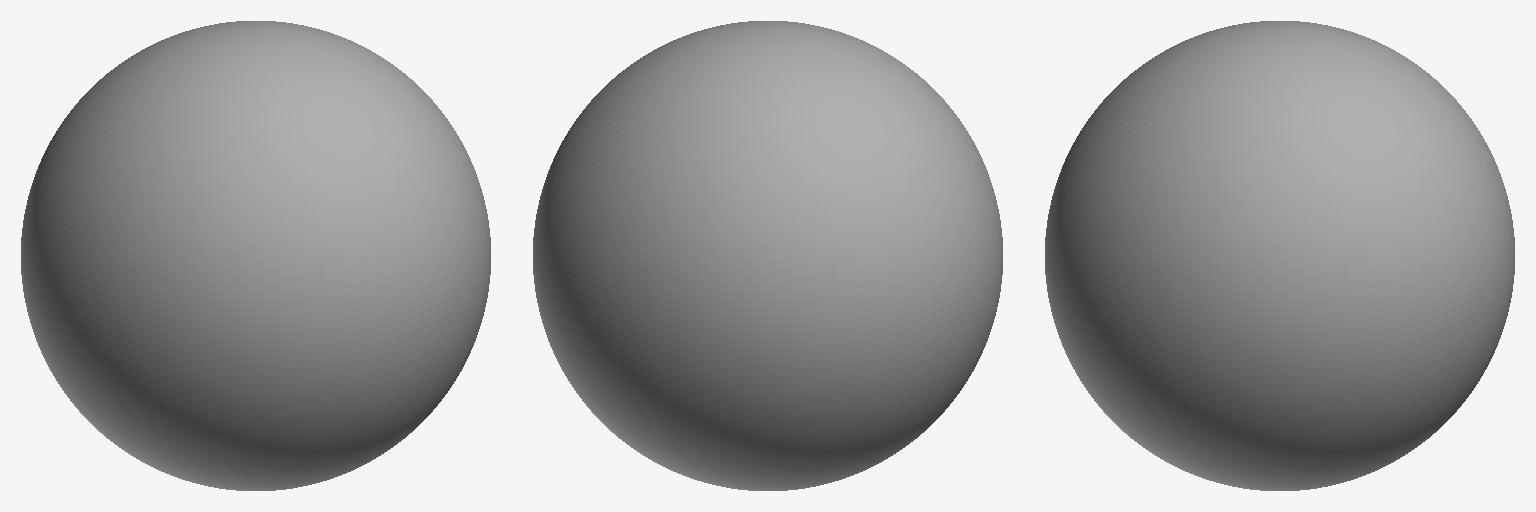
Rendered from triangulated.obj.
3 renders of one model, left to right at view 1: azimuth 30°, elevation 25°; view 2: azimuth 150°, elevation 25°; view 3: azimuth 270°, elevation 25°, orthographic.
Parts seen in each view (by area): view 1: Sphere; view 2: Sphere; view 3: Sphere.
Part boxes in pixels (x1,y1,x2,y2): Sphere: (21,21,490,490); Sphere: (533,21,1002,490); Sphere: (1045,21,1514,490).
Bounding box in the file's own units: 0.9988 × 1 × 0.9988.